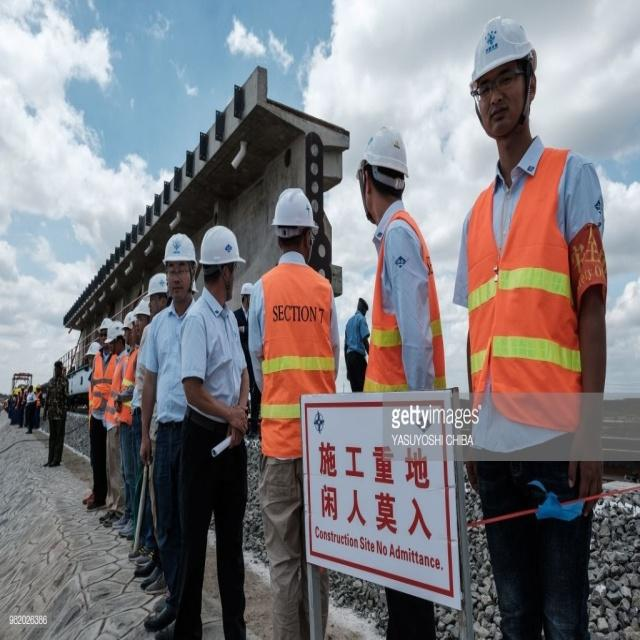helmet: (469, 24, 537, 185), (361, 162, 408, 294), (200, 300, 238, 405), (275, 247, 314, 345), (163, 311, 197, 405), (146, 363, 168, 417), (136, 396, 150, 447), (109, 429, 124, 474), (98, 424, 111, 463), (123, 415, 134, 457), (240, 376, 252, 413), (87, 455, 99, 489)
vest: (463, 188, 602, 544), (251, 352, 343, 619), (367, 286, 442, 562), (90, 472, 116, 559)
